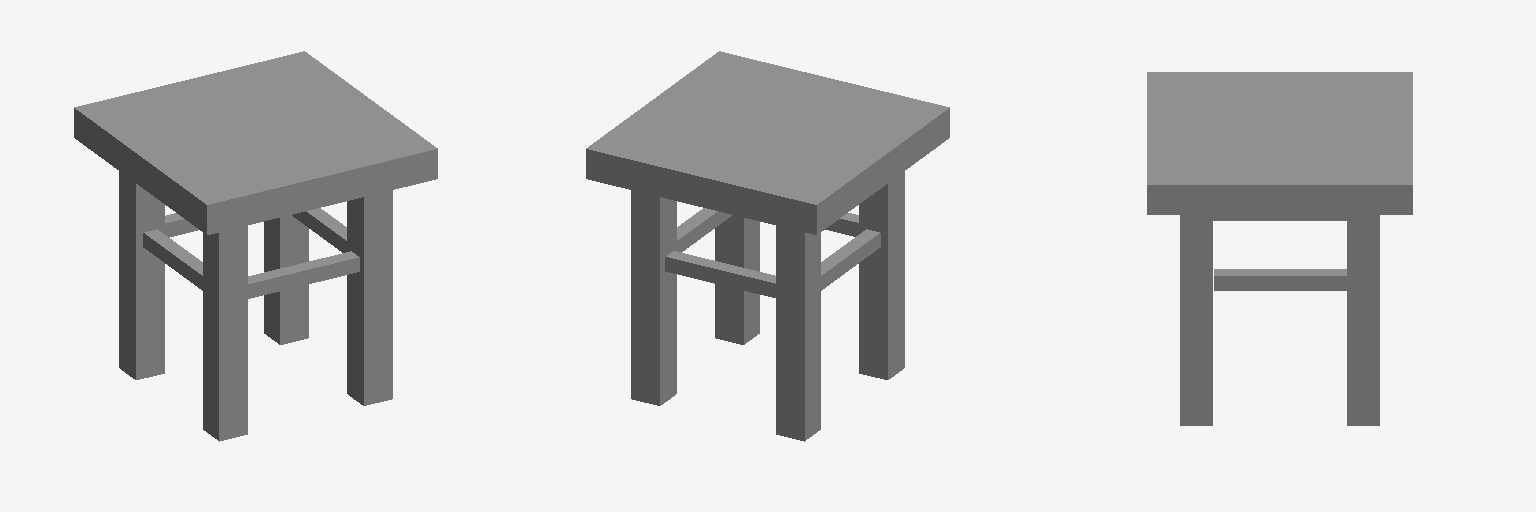
File: kitchen_table.obj
The picture shows the model from 3 angles: view 1: azimuth 30°, elevation 25°; view 2: azimuth 150°, elevation 25°; view 3: azimuth 270°, elevation 25°; orthographic projection.
Visible parts, largest first — view 1: Cube.004; view 2: Cube.004; view 3: Cube.004.
Boxes of the visible parts, <box> form: Cube.004: <box>74,51,437,441</box>; Cube.004: <box>586,51,949,441</box>; Cube.004: <box>1147,72,1412,425</box>.
Bounding box in the file's own units: 2 × 2.12 × 2.